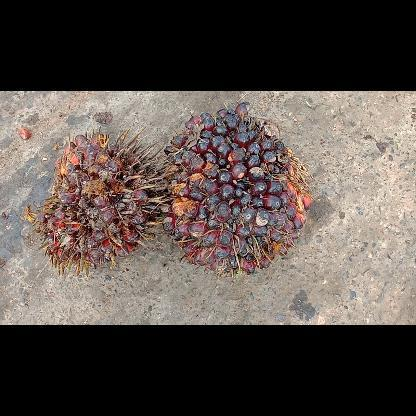Kurang masak: (158, 102, 312, 283)
TBS masak: (29, 127, 165, 274)
